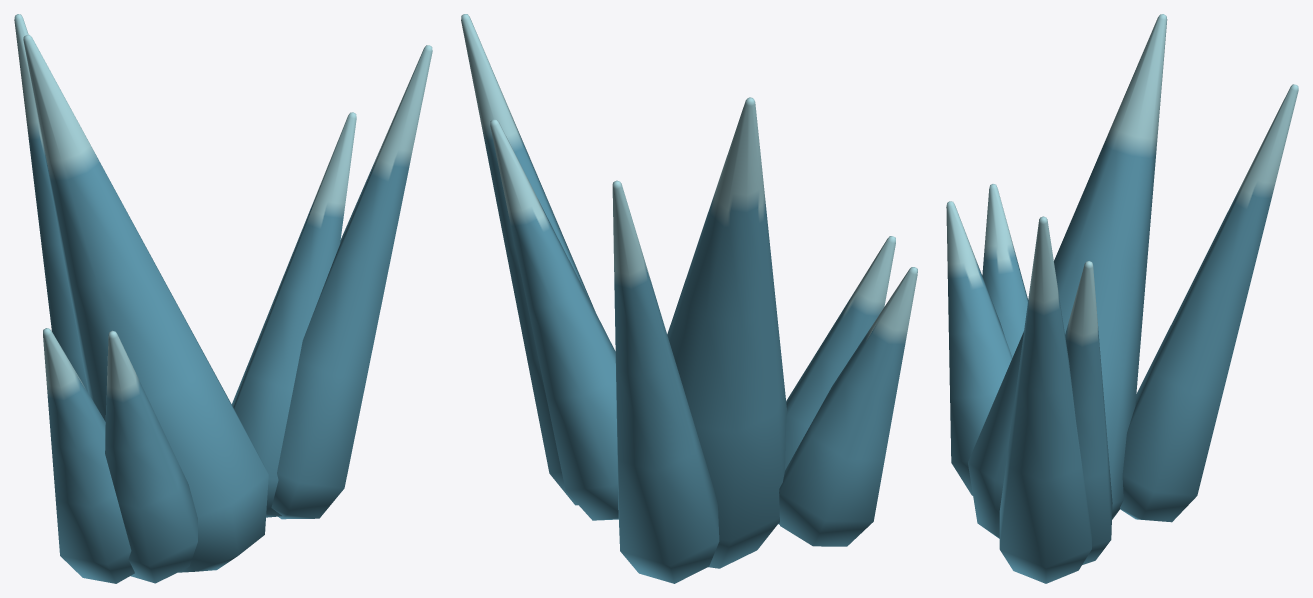
The model's file is prop_crystal0_cefb.glb.
3 renders of one model, left to right at view 1: azimuth 30°, elevation 25°; view 2: azimuth 150°, elevation 25°; view 3: azimuth 270°, elevation 25°, orthographic. The views are drawn at different scales.
Parts seen in each view (by area): view 1: prop_crystal0_cefb; view 2: prop_crystal0_cefb; view 3: prop_crystal0_cefb.
Part boxes in pixels (x1=…): prop_crystal0_cefb: x1=14, y1=14, x2=432, y2=583; prop_crystal0_cefb: x1=461, y1=14, x2=917, y2=583; prop_crystal0_cefb: x1=946, y1=14, x2=1298, y2=583.
Size of the model in its own units: 0.8355 by 0.9845 by 0.6416.
Materials: 1 (1 with a texture image).
